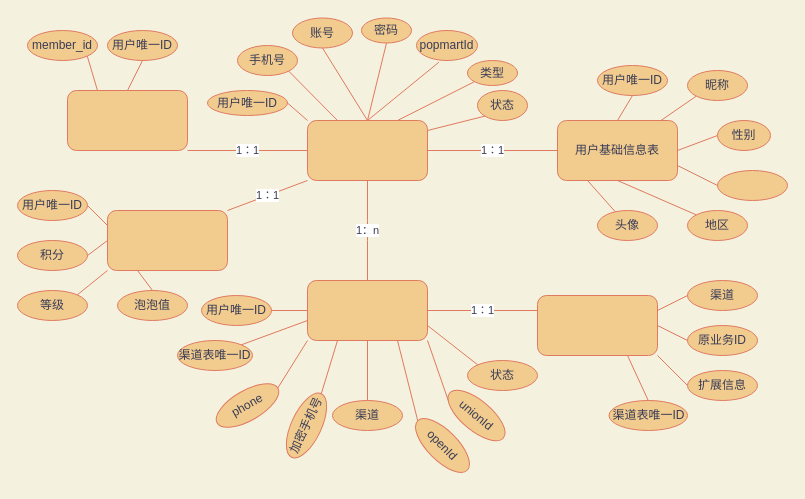
The diagram is 805 pixels wide and 499 high, and some of its shapes have lost their labels. Each missing label, with the box of its shape:
会员相关信息表: (106, 210, 228, 270)
出生日期: (716, 170, 788, 200)
同步数据临时表: (536, 294, 658, 356)
用户海鼎关联表: (66, 90, 188, 150)
用户渠道表: (306, 280, 428, 340)
用户表: (306, 120, 428, 180)
